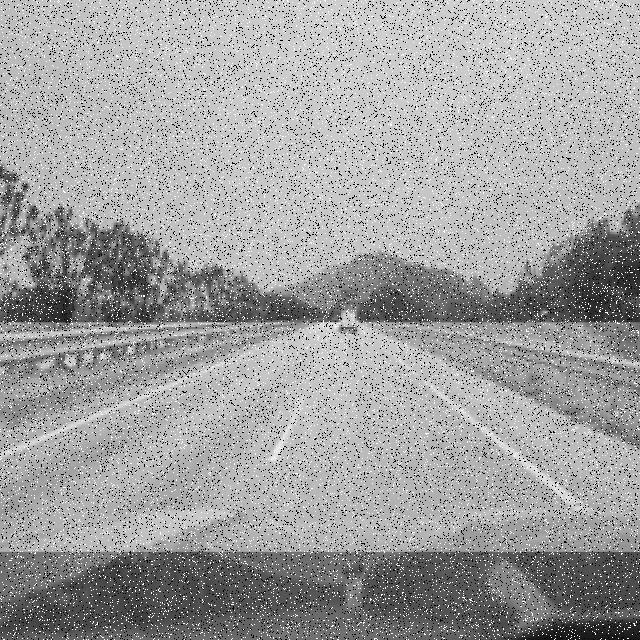clear-road: (0, 325, 640, 543)
